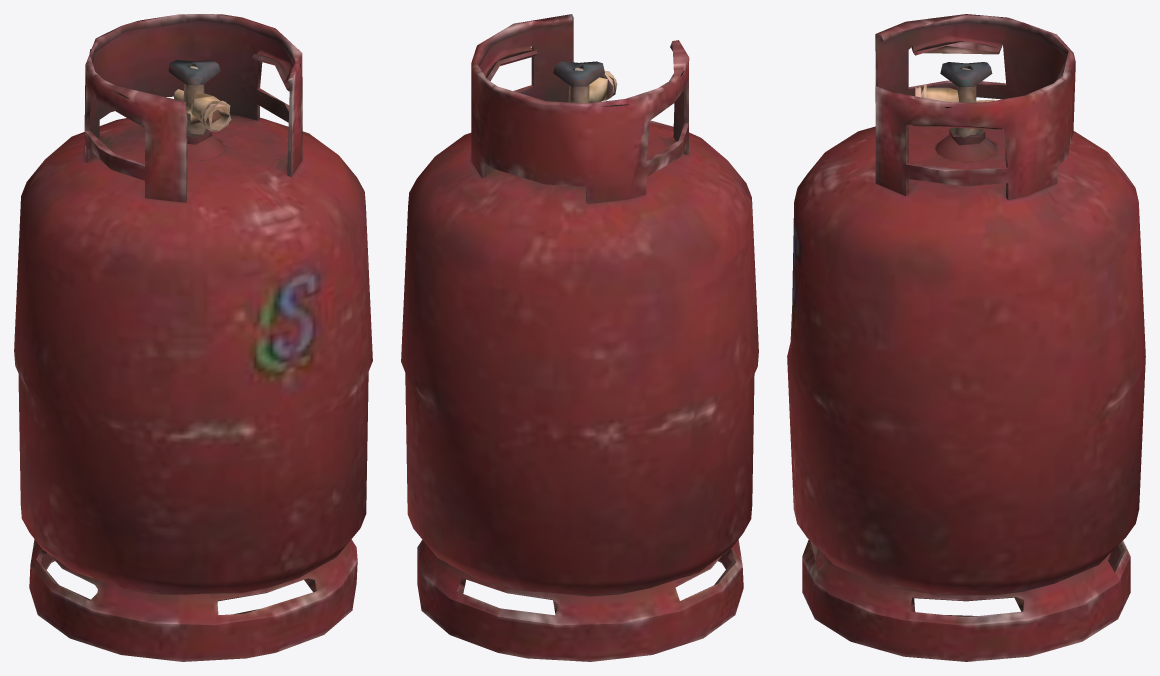
Rendered from propane_tank.l.81c5946a.glb.
3 views of the same model, side by side, from view 1: azimuth 30°, elevation 25°; view 2: azimuth 150°, elevation 25°; view 3: azimuth 270°, elevation 25° (orthographic).
Parts seen in each view (by area): view 1: propane_tank; view 2: propane_tank; view 3: propane_tank.
Boxes of the visible parts, left/top/right/bottom form: propane_tank: left=14, top=14, right=372, bottom=661; propane_tank: left=401, top=14, right=758, bottom=661; propane_tank: left=787, top=14, right=1145, bottom=661.
Size of the model in its own units: 0.3374 by 0.5534 by 0.3374.
Materials: 1 (1 with a texture image).
